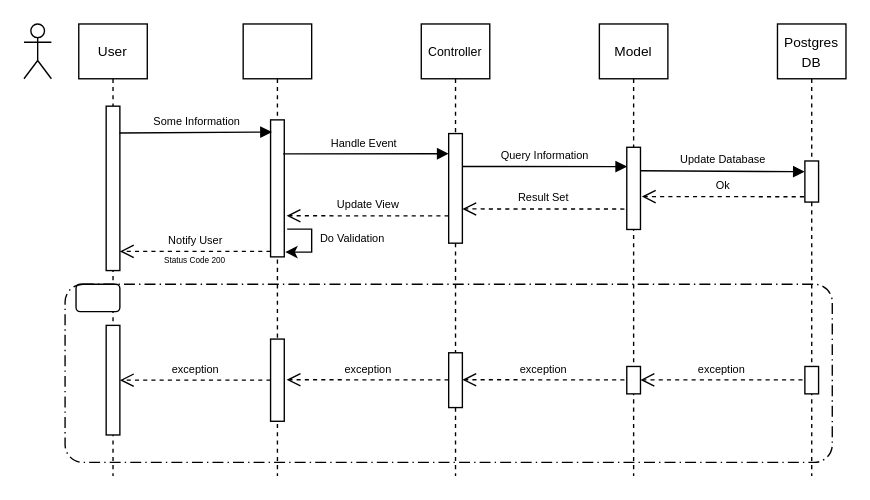
Image size: 870x500. Some labels were removed from this diagram. Here are the shapes that lost their labels. From the top down, the box of each, then its label:
(242, 23, 312, 476): View
(75, 283, 120, 312): alt
